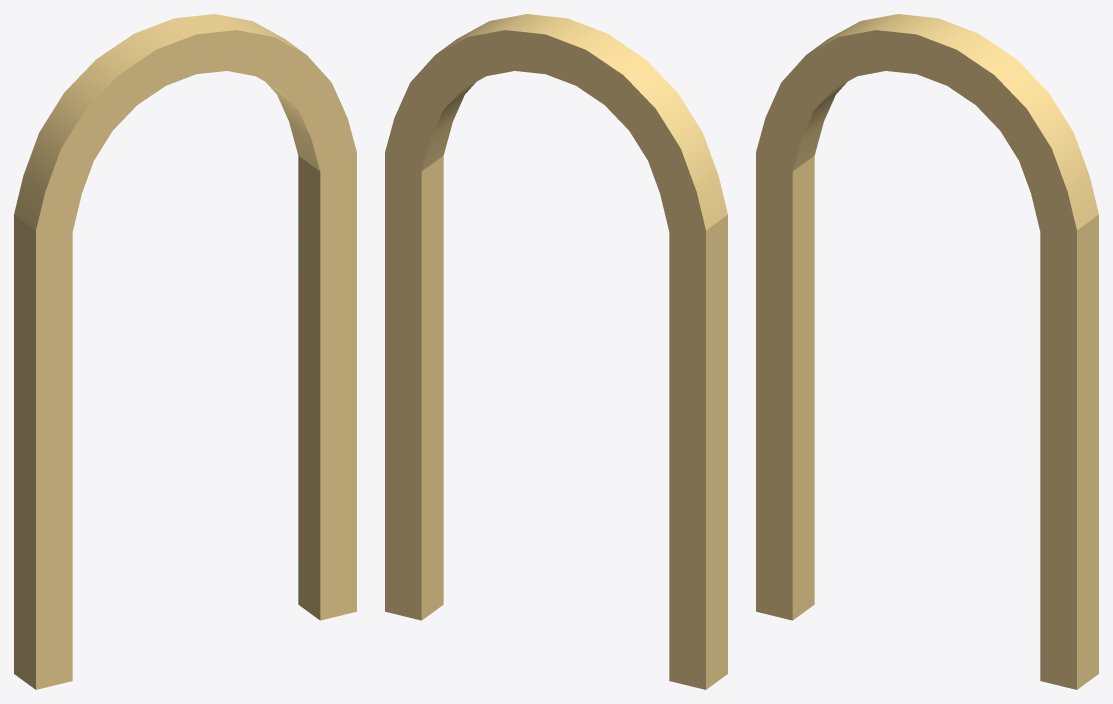
The model's file is doorFrameFlat.fbx.
3 renders of one model, left to right at view 1: azimuth 30°, elevation 25°; view 2: azimuth 150°, elevation 25°; view 3: azimuth 330°, elevation 25°, orthographic.
Parts seen in each view (by area): view 1: pCube81; view 2: pCube81; view 3: pCube81.
Boxes of the visible parts, <box> form: pCube81: <box>14,14,356,689</box>; pCube81: <box>385,14,727,689</box>; pCube81: <box>756,14,1098,689</box>.
Size of the model in its own units: 169 by 311 by 20.08.
1 material, 1 textured.
